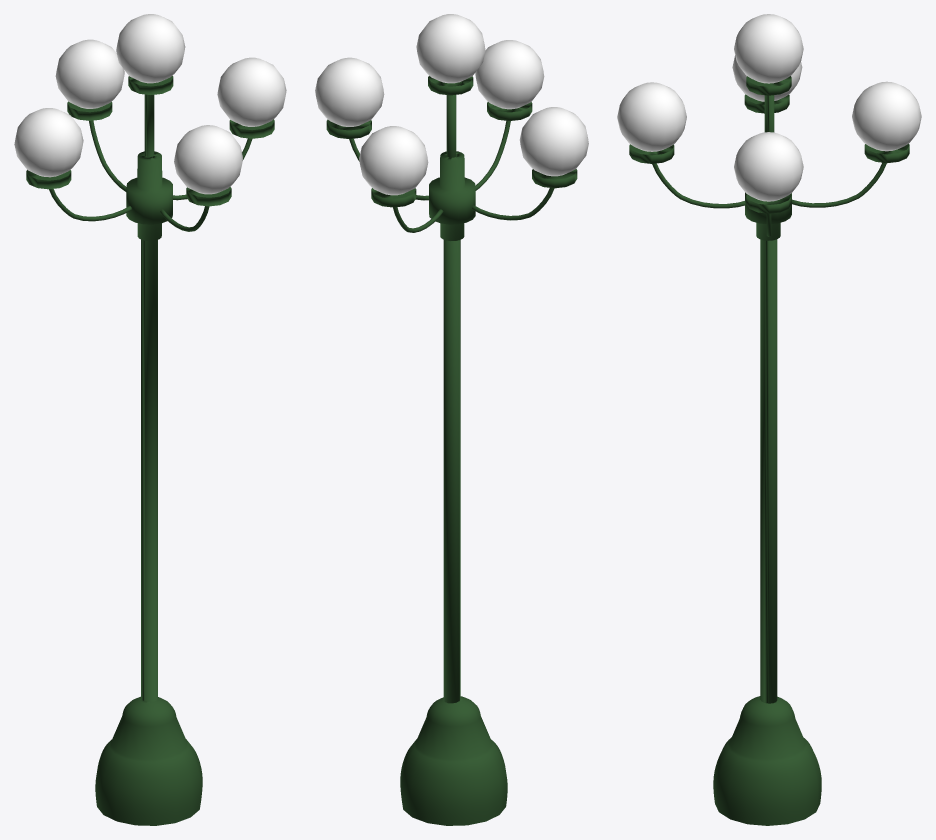
Rendered from Light.obj.
3 renders of one model, left to right at view 1: azimuth 30°, elevation 25°; view 2: azimuth 150°, elevation 25°; view 3: azimuth 270°, elevation 25°, orthographic.
Parts seen in each view (by area): view 1: Sphere02; view 2: Sphere02; view 3: Sphere02.
Boxes of the visible parts, box(x1,y1,x2,y2) form: Sphere02: box(14, 14, 286, 825); Sphere02: box(315, 14, 588, 825); Sphere02: box(617, 14, 921, 825).
Size of the model in its own units: 499 by 1417 by 497.
